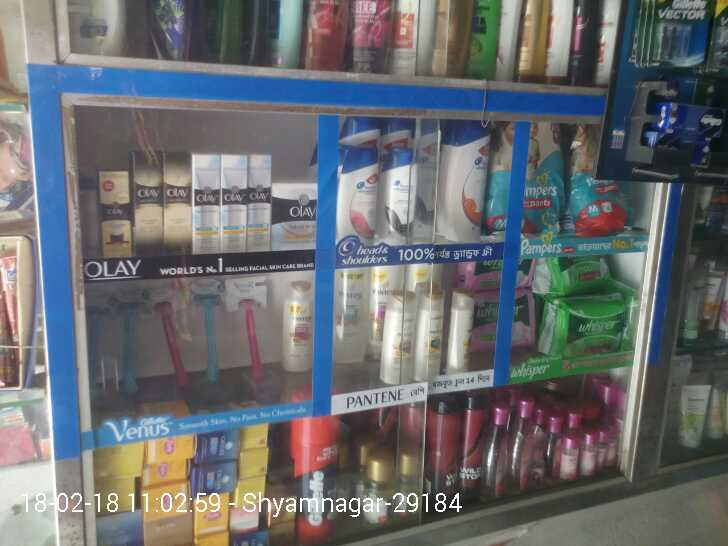gillete: (294, 414, 344, 546), (637, 1, 708, 69), (660, 103, 728, 135)
venus: (154, 277, 194, 385), (193, 274, 229, 376), (116, 285, 150, 390), (237, 273, 269, 376), (89, 291, 112, 400)
